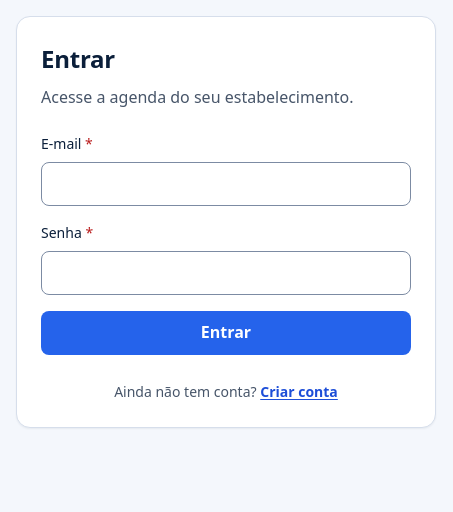
Test: AuthScreen › mostra mensagem clara quando a senha está errada
Type "dono@exemplo.test" into the field labelled "E-mail *".
click(226, 184); type("dono@exemplo.test")  # box left=41, top=162, right=411, bottom=206
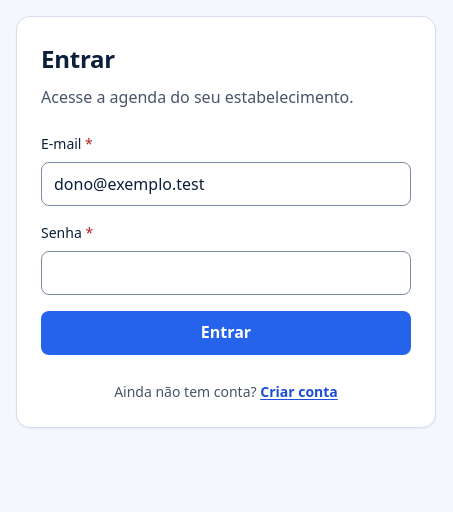
Type "senha-errada" into the password field labelled "Senha *".
click(226, 273); type("senha-errada")  # box left=41, top=251, right=411, bottom=295
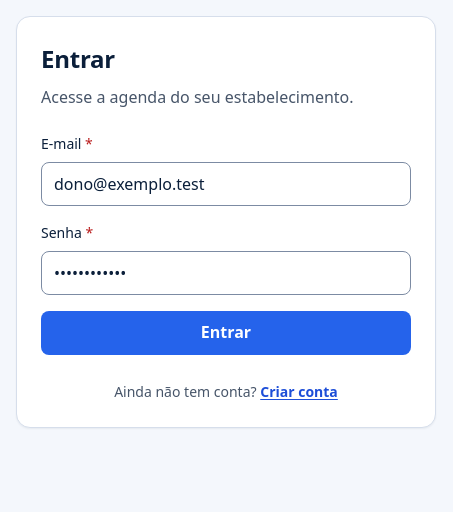
Click the button "Entrar".
click(226, 333)  # box left=41, top=311, right=411, bottom=355
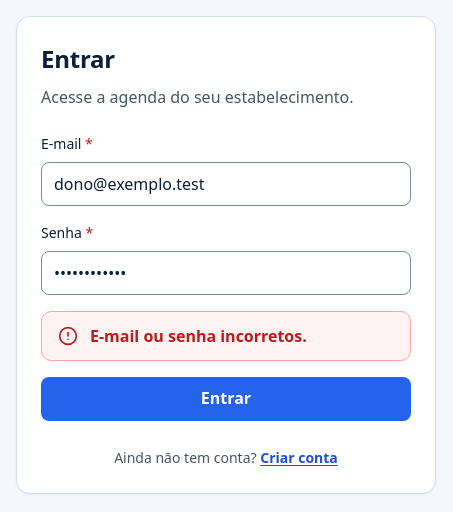
Expected: the message reads "E-mail ou senha incorretos.", left=90, top=325, right=307, bottom=347
